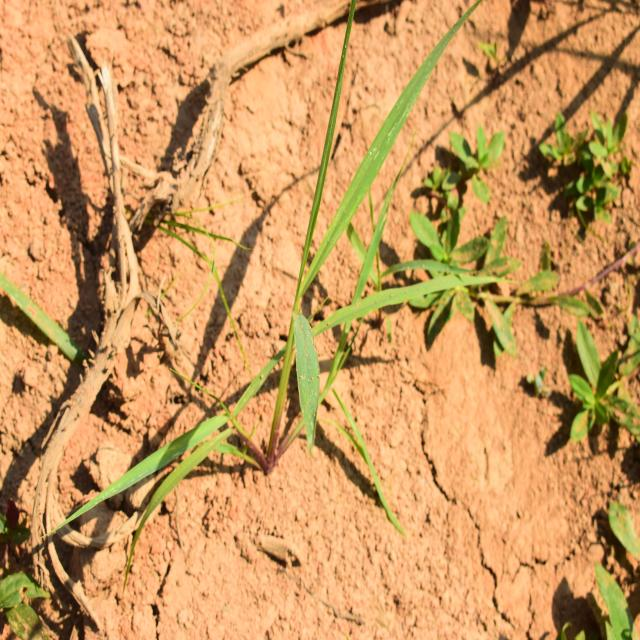green_foxtail: (152, 77, 426, 532)
